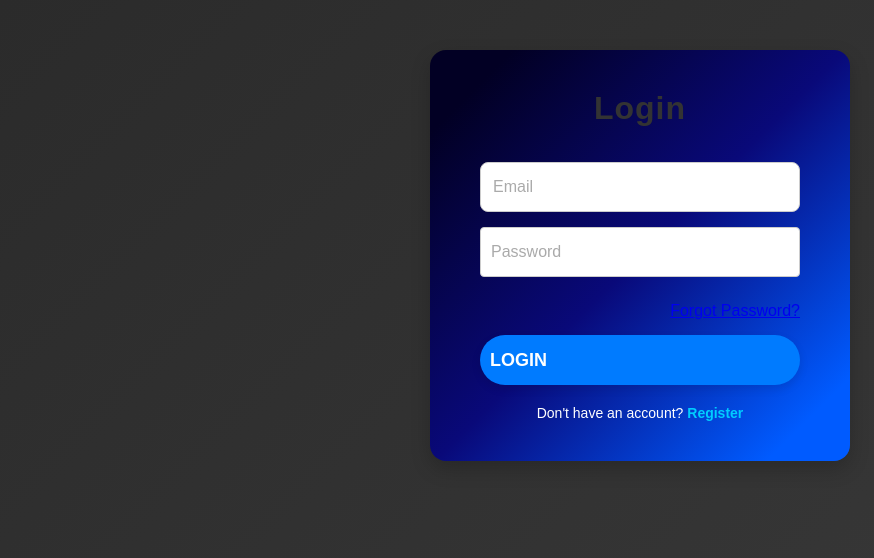
Scenario: Login Component › displays error message for invalid credentials
This screenshot has width=874, height=558.
Step 1. Type "wrong@example.com" into the field with placeholder "Email" → point(640, 187), box x1=480 y1=162 x2=800 y2=212
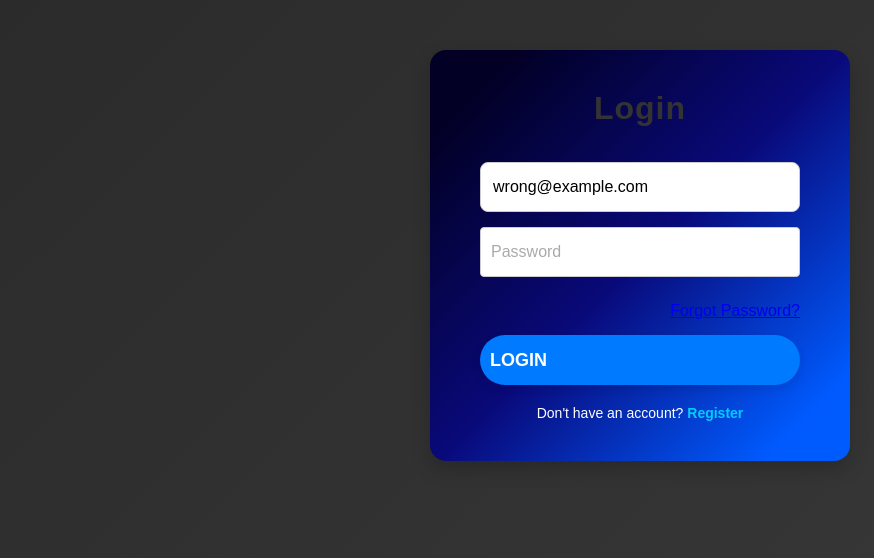
Step 2. Type "wrongpassword" into the password field with placeholder "Password" → point(640, 252), box x1=480 y1=227 x2=800 y2=277
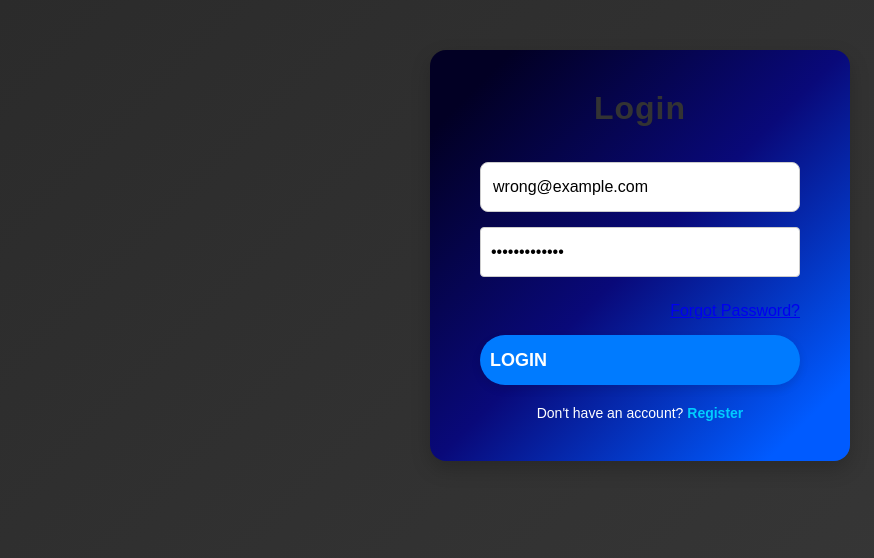
Step 3. Click the button "Login" → point(518, 360), box x1=480 y1=335 x2=800 y2=385
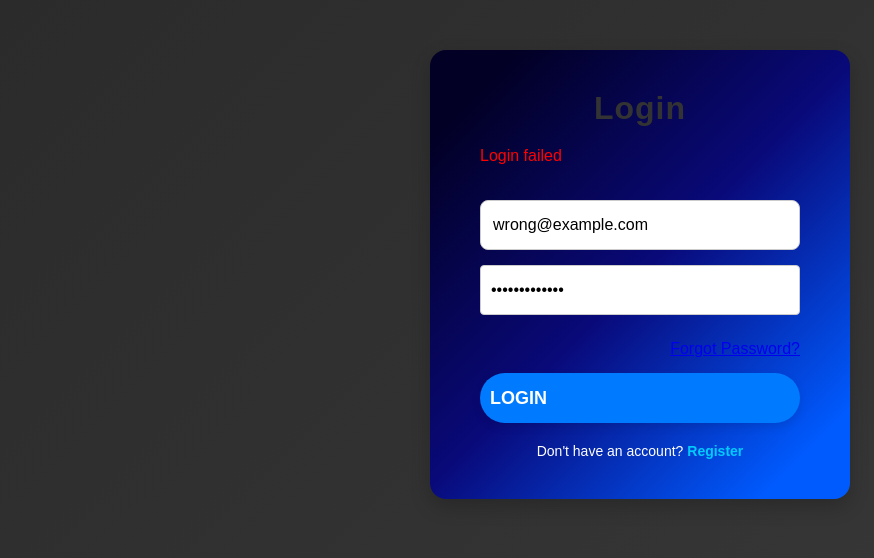
Expected: the text "Login failed" is shown, x1=480 y1=147 x2=562 y2=164
